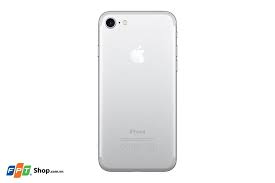iphone: (92, 8, 179, 174)
iphone7: (93, 8, 180, 174)
